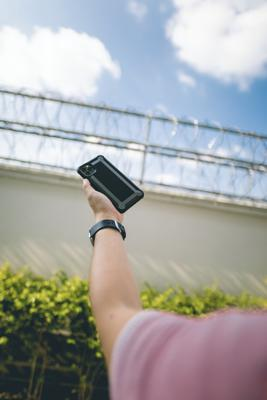cell-phone: (76, 153, 147, 213)
